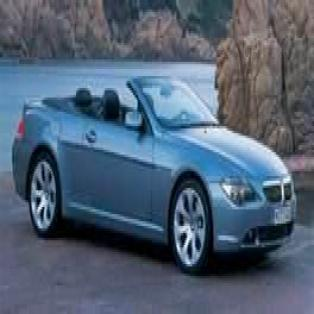Auto: (6, 60, 301, 283)
